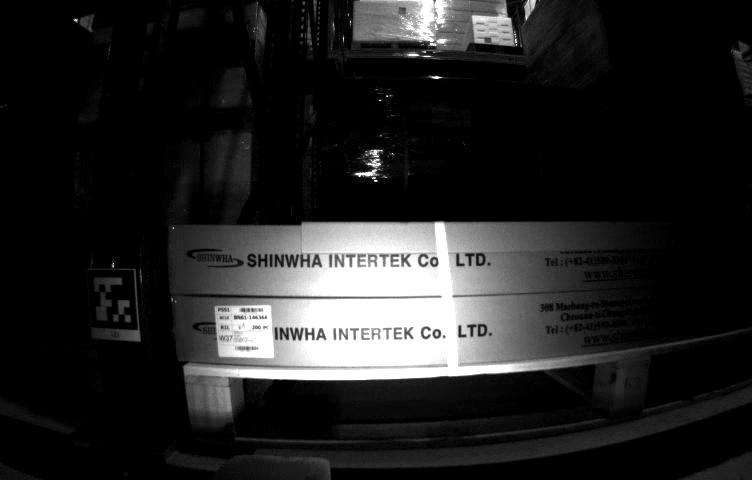True Barcode: (215, 306, 271, 359)
